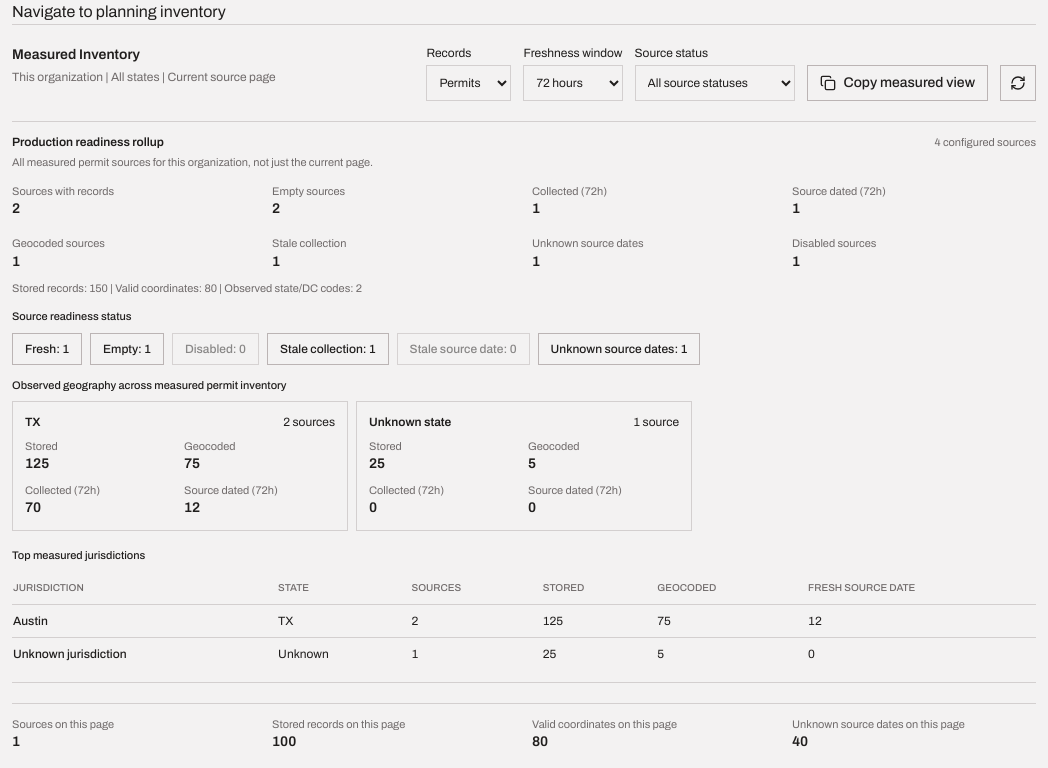
Test: MeasuredCoveragePanel › shows no totals while loading or on an error, even after a successful measurement
This screenshot has width=1048, height=768.
Click the button named "Refresh measured inventory": (1018, 83) [1000,65,1036,101]
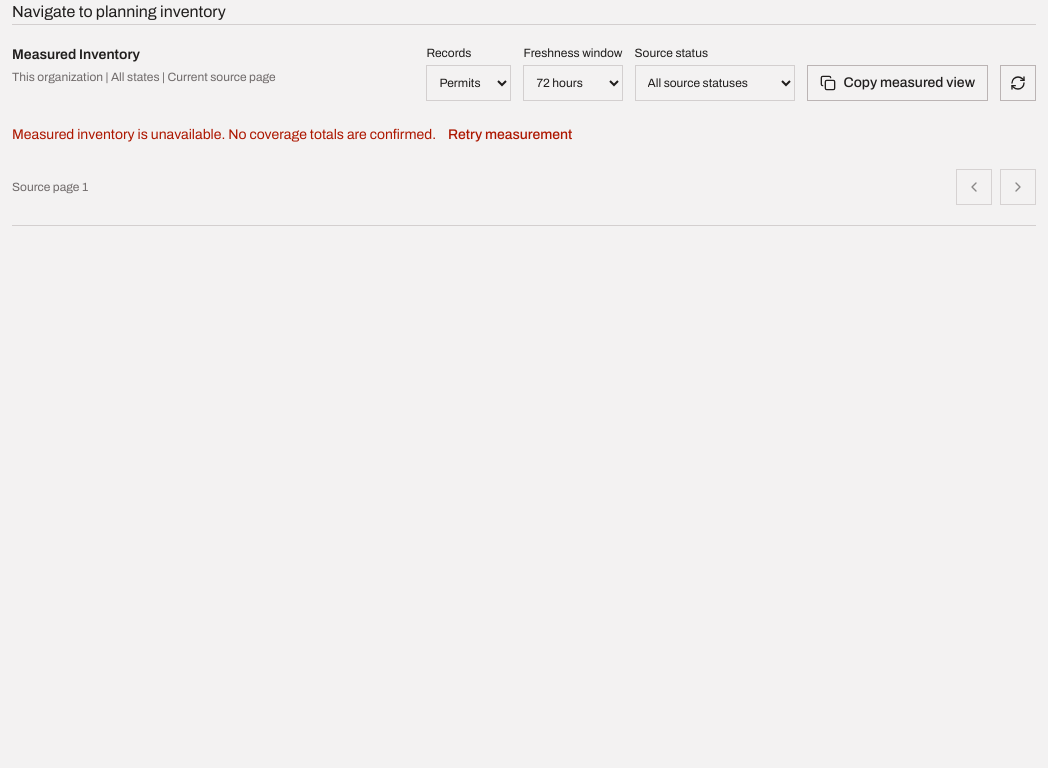
Expected: the element "county_public_records" is not shown
Expected: the message is shown, [12,117,584,153]
Click the button "Retry measurement": (510, 135) [436,117,584,153]
(page scrolled)
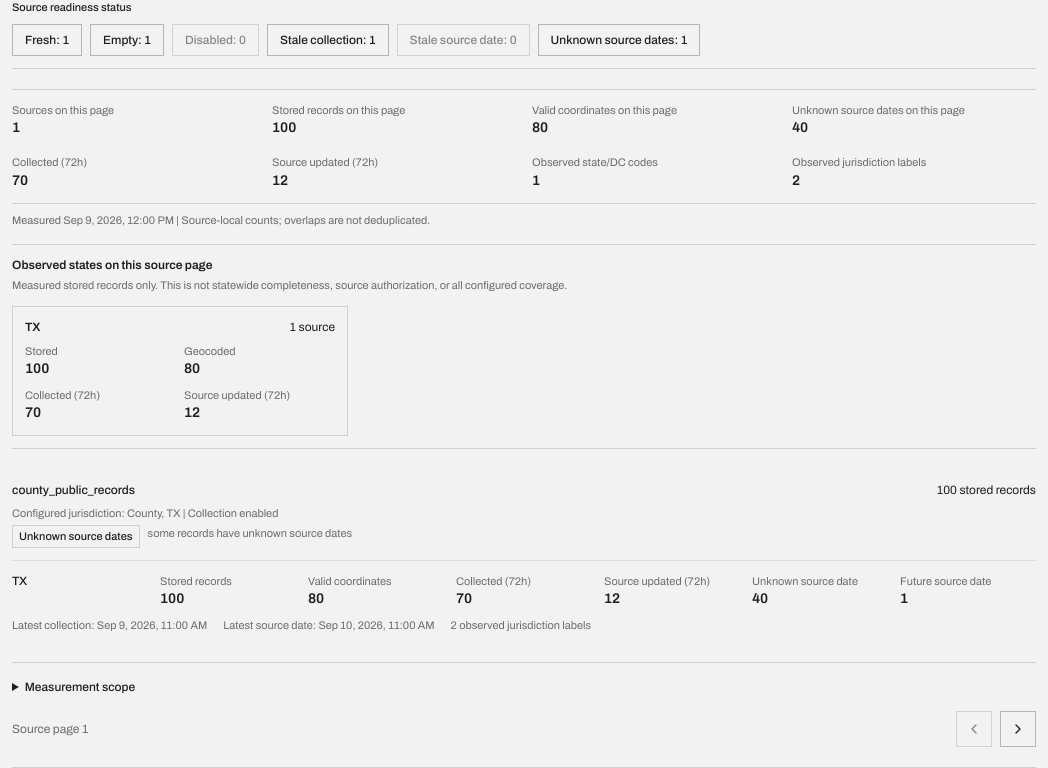
Expected: the element "county_public_records" is shown, [12,460,1036,662]
